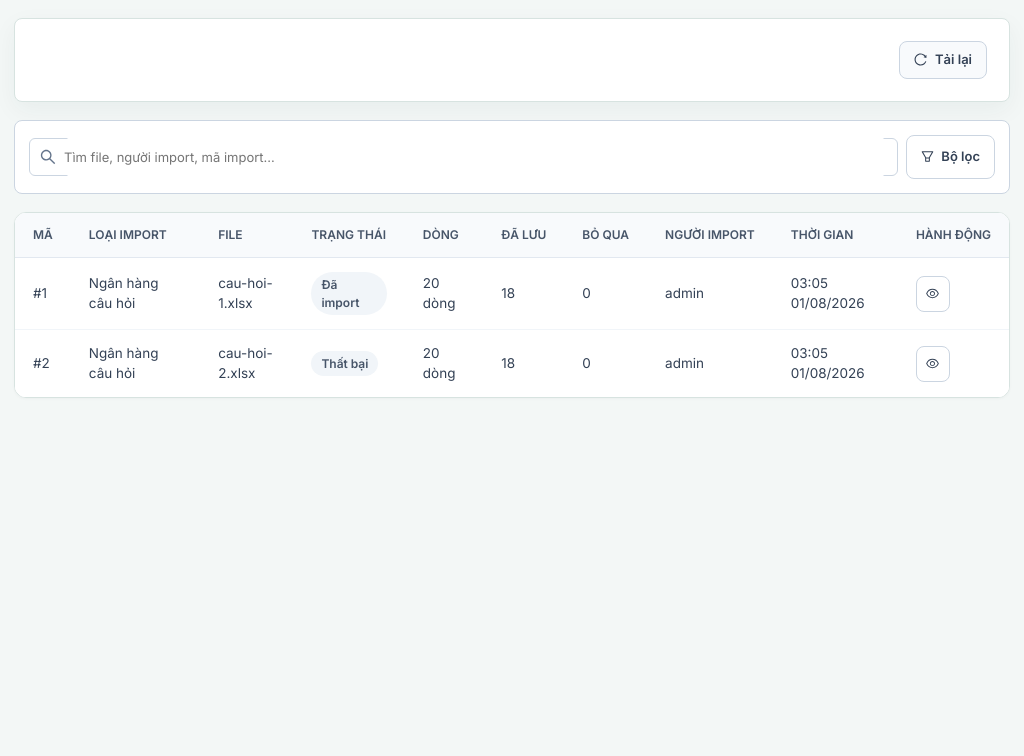
Test case: EvaluationImportHistoryPage - chi tiết import › điền số 0 khi chi tiết thiếu số liệu
Expected: the text "#1" is shown, [15, 258, 71, 330]
Click the button titled "Xem chi tiết" in the row of "cau-hoi-1.xlsx".
click(933, 294)  # box [916, 276, 950, 312]
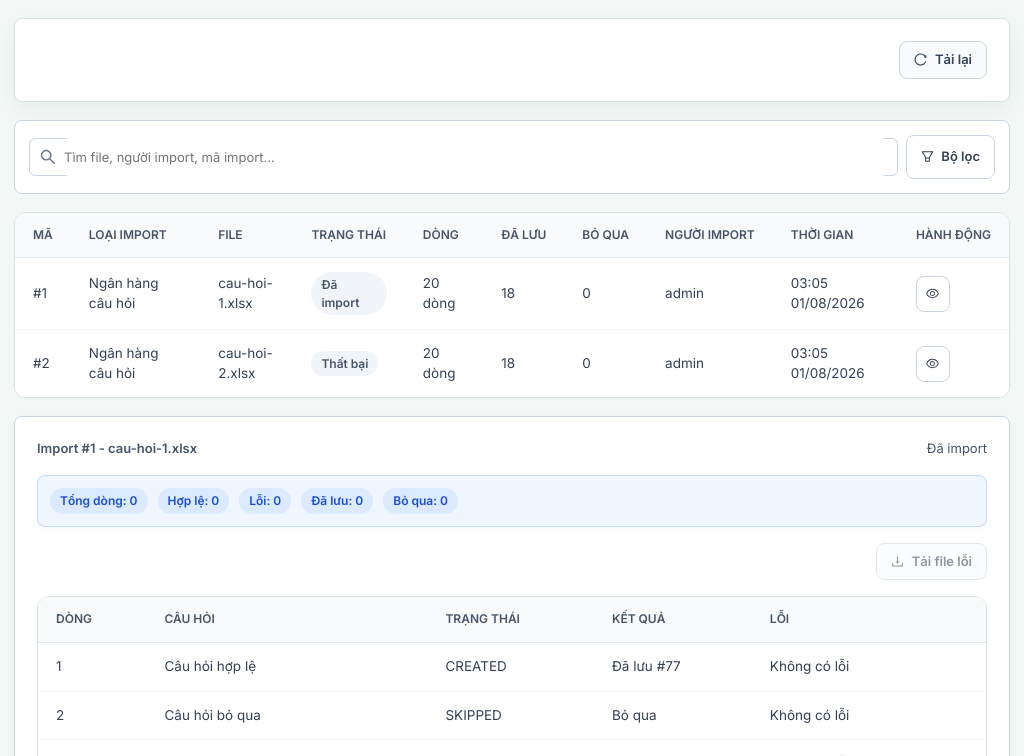
Expected: the text "Import #1 - cau-hoi-1.xlsx" is shown, [37, 439, 197, 459]
Expected: the text "Tổng dòng: 0" is shown, [50, 488, 148, 514]
Expected: the text "Lỗi: 0" is shown, [239, 488, 291, 514]
